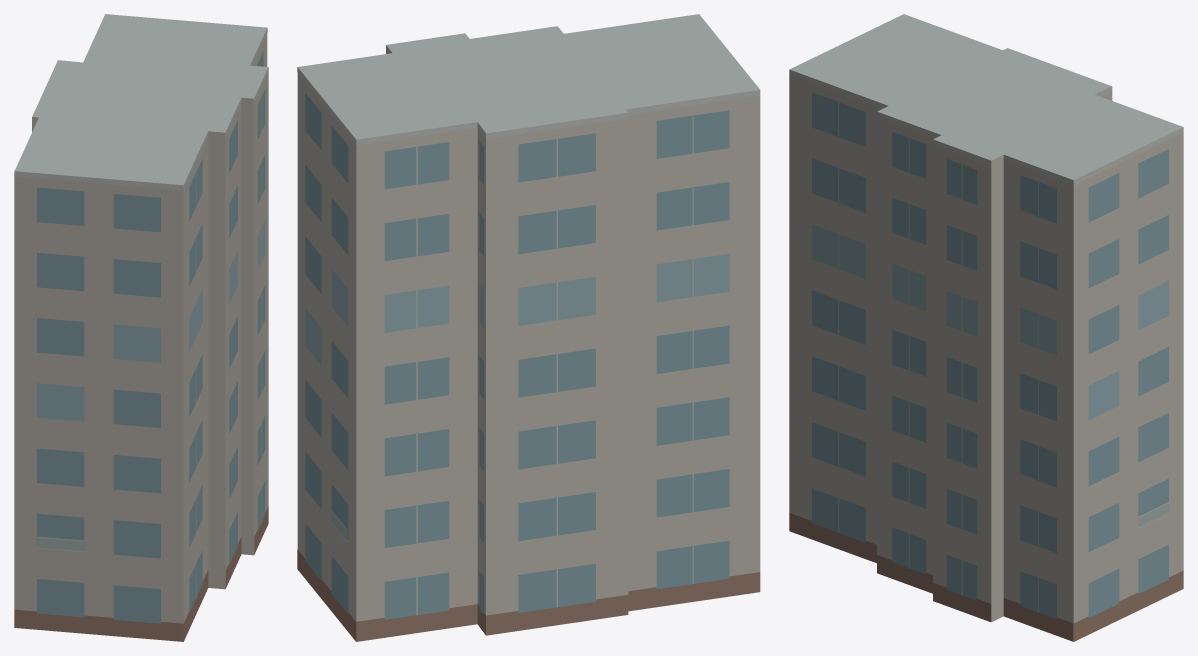
File: survey-upis-32613740.glb
The picture shows the model from 3 angles, left to right: view 1: azimuth 30°, elevation 25°; view 2: azimuth 150°, elevation 25°; view 3: azimuth 270°, elevation 25°; orthographic projection. The views are drawn at different scales.
Visible parts, largest first — view 1: survey-upis-32613740.tmp; view 2: survey-upis-32613740.tmp; view 3: survey-upis-32613740.tmp.
Part boxes in pixels (box(x1,y1,x2,y2)): survey-upis-32613740.tmp: box(14, 14, 268, 641); survey-upis-32613740.tmp: box(297, 14, 760, 641); survey-upis-32613740.tmp: box(789, 14, 1183, 641).
Size of the model in its own units: 16.61 by 21.5 by 16.65.
